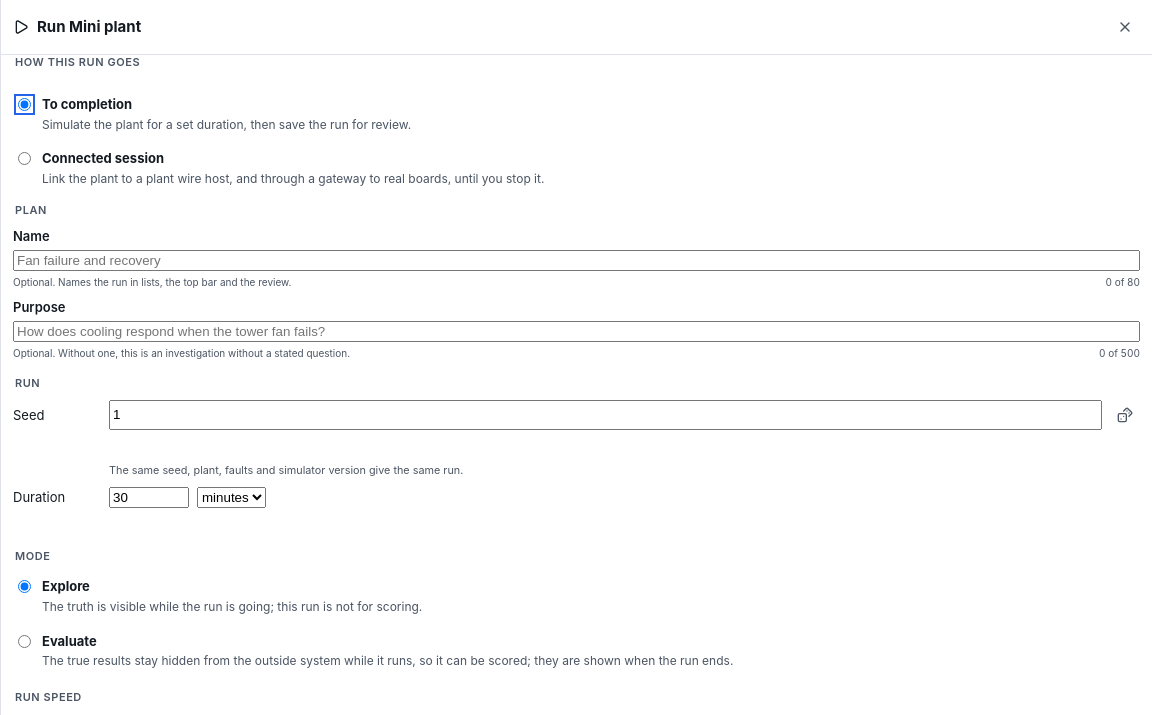
Test: the list in effect and the workspace default › keeps showing the list the running session was started with
Click the radio button labelled "Connected session" at (24,159), box [18, 152, 31, 165]
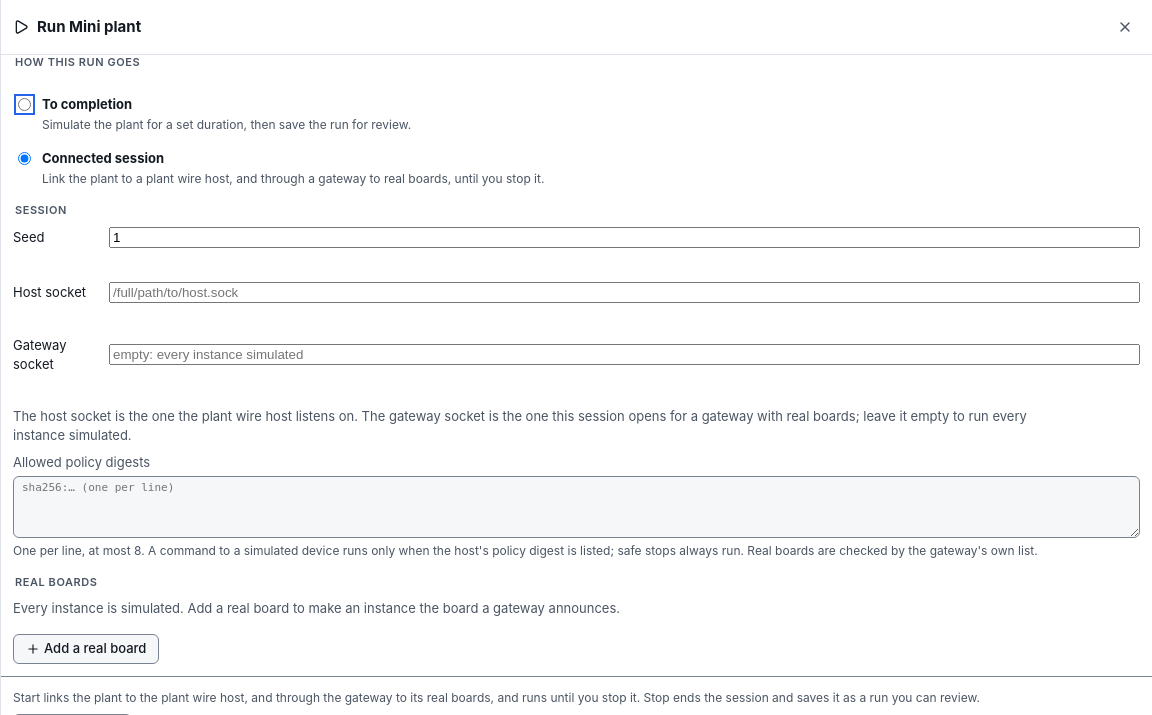
Type "/tmp/h.sock" into the field labelled "Host socket" at (624,292), box [109, 282, 1140, 303]
(page scrolled)
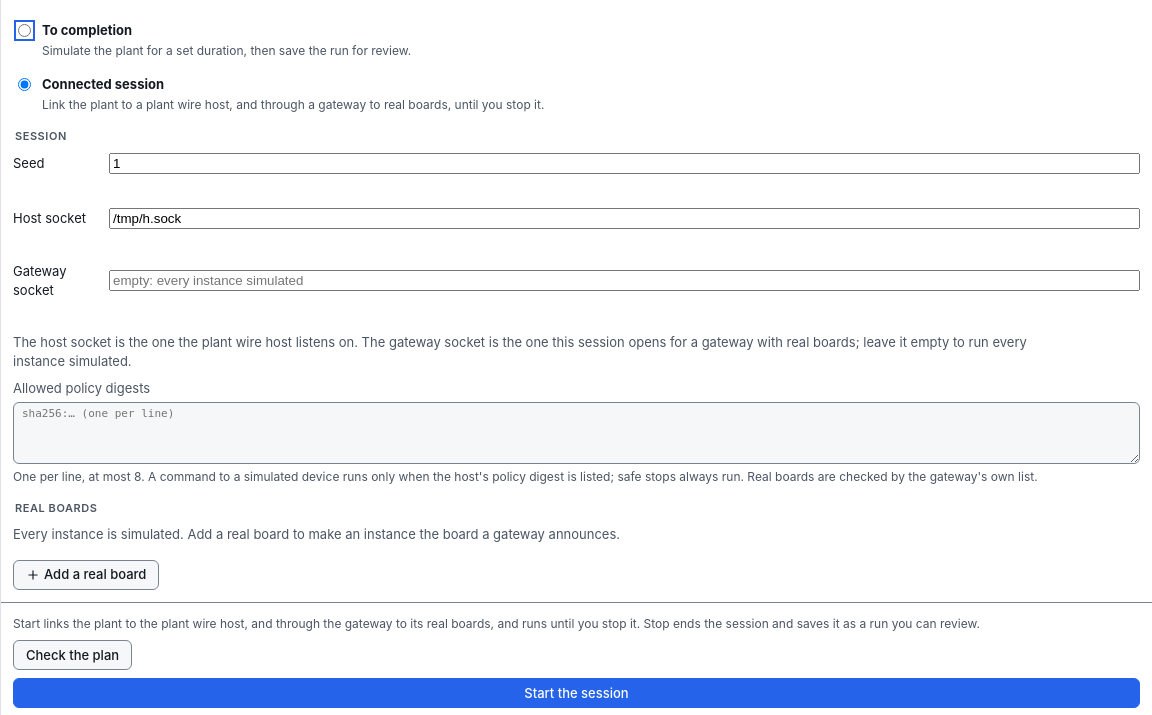
Click the button "Start the session" at (576,693), box [13, 678, 1140, 708]
(page scrolled)
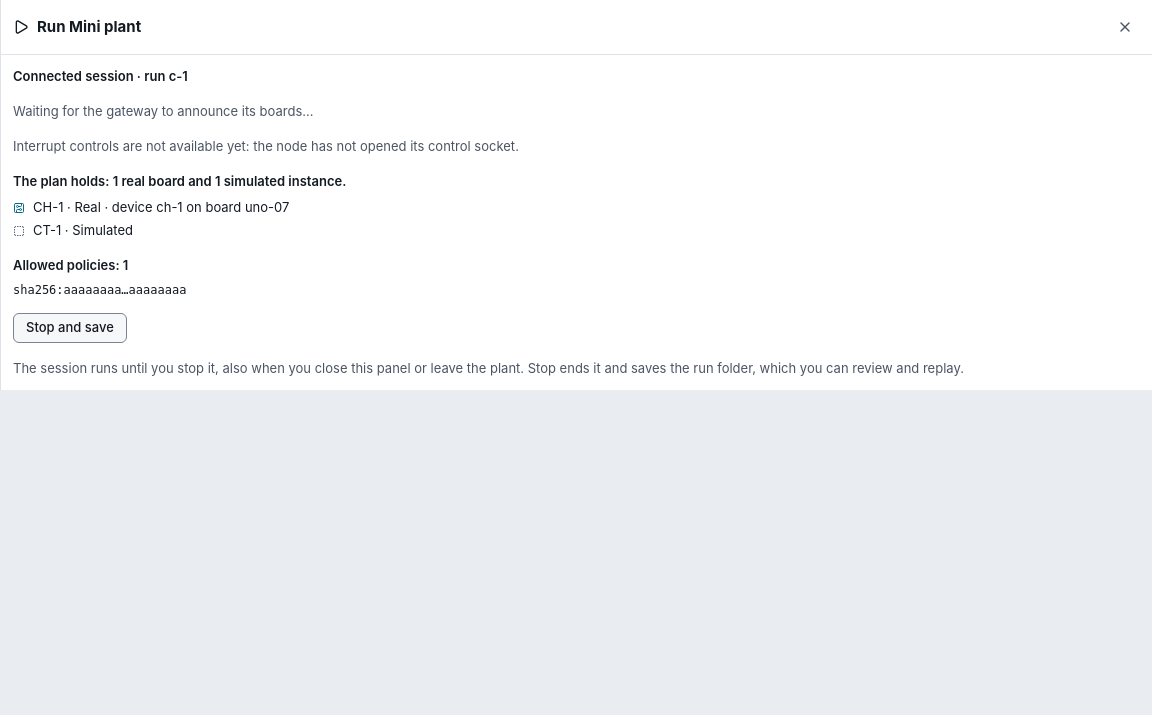
Expected: the text "Connected session · run c-1" is shown, [13, 68, 188, 84]
Expected: the element named "Allowed policies in effect" shows "Allowed policies: 1", [13, 257, 128, 273]
Expected: the element named "Allowed policies in effect" shows "sha256:aaaaaaaa…aaaaaaaa", [13, 283, 186, 297]
